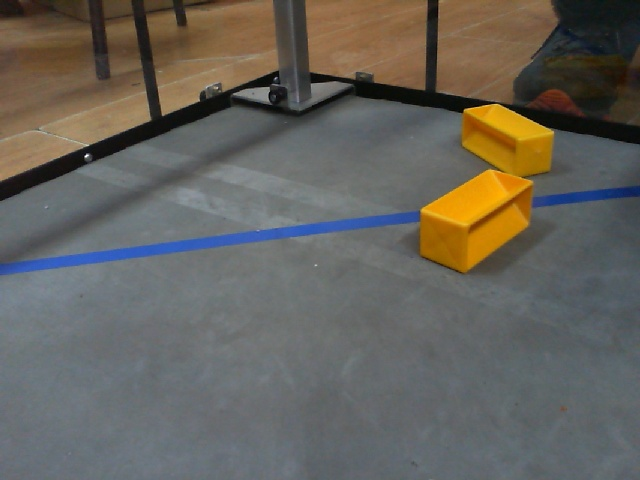YellowSample: (414, 167, 541, 273), (454, 99, 557, 181)
